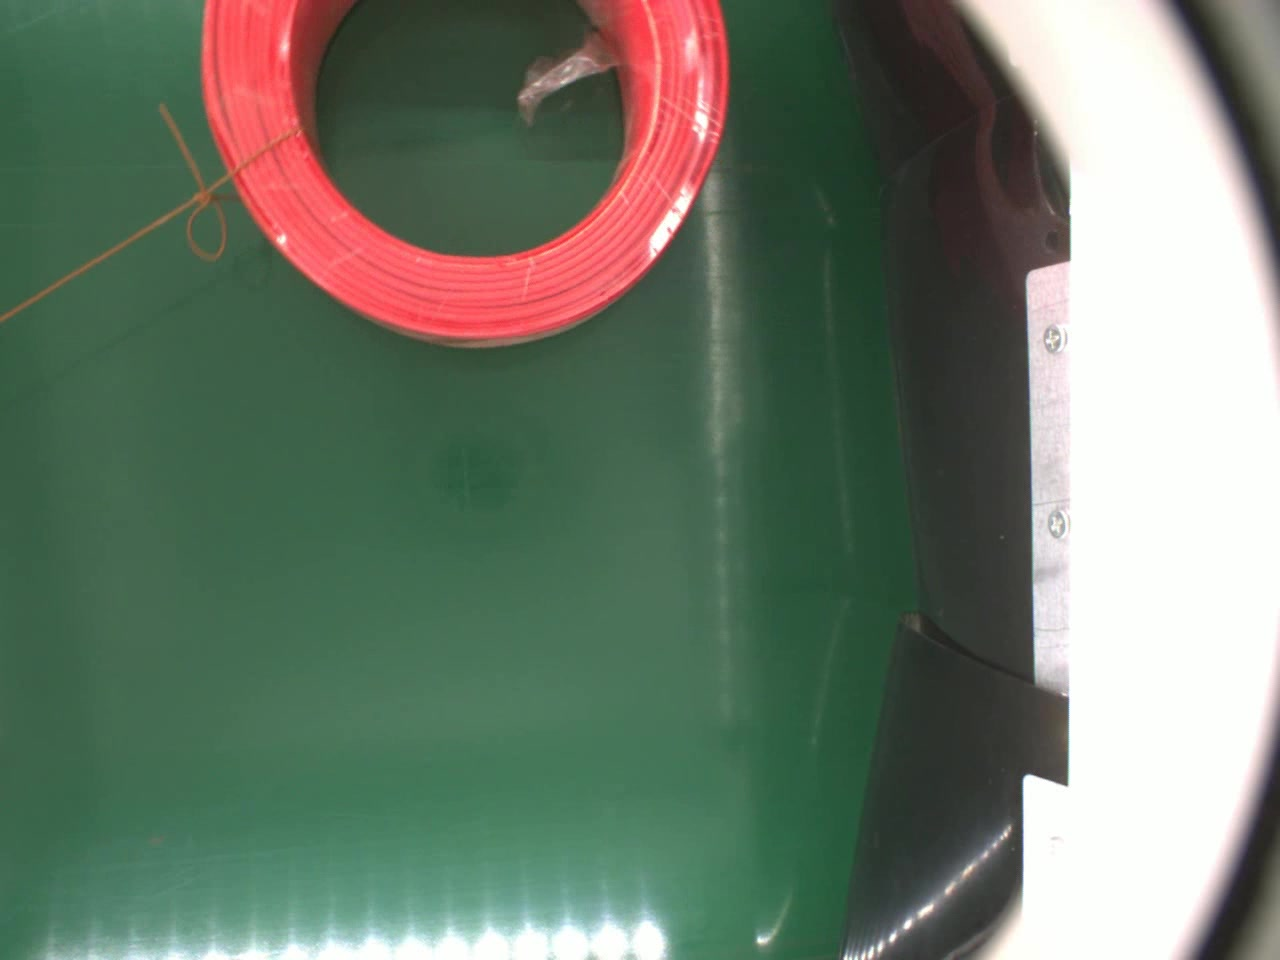red: (195, 0, 733, 351)
